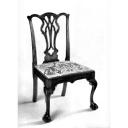chair_success: (22, 10, 106, 126)
